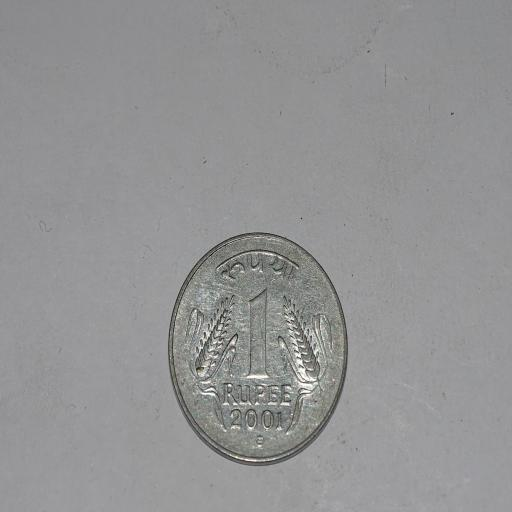rupee1: (162, 224, 349, 462)
